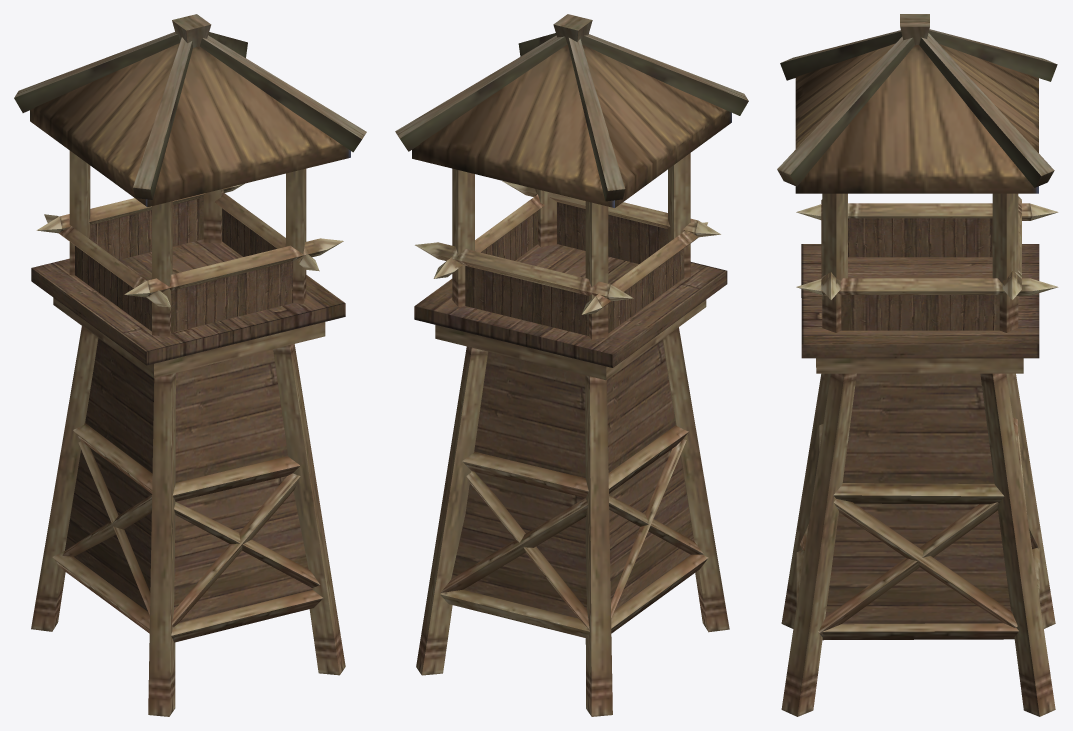
File: talou01_R.fbx
3 renders of one model, left to right at view 1: azimuth 30°, elevation 25°; view 2: azimuth 150°, elevation 25°; view 3: azimuth 270°, elevation 25°, orthographic. The views are drawn at different scales.
Visible parts, largest first — view 1: talou01_R; view 2: talou01_R; view 3: talou01_R.
Boxes of the visible parts, left/top/right/bottom form: talou01_R: left=14, top=14, right=366, bottom=716; talou01_R: left=395, top=14, right=748, bottom=716; talou01_R: left=777, top=14, right=1058, bottom=716.
Bounding box in the file's own units: 2.35 × 6 × 2.36.
